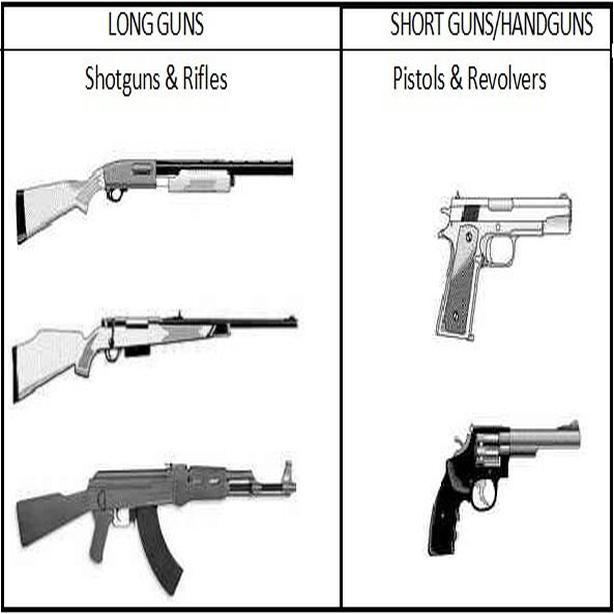Firearm: (5, 458, 310, 594), (11, 135, 324, 262), (409, 389, 595, 589), (10, 300, 315, 417), (416, 181, 604, 359)
